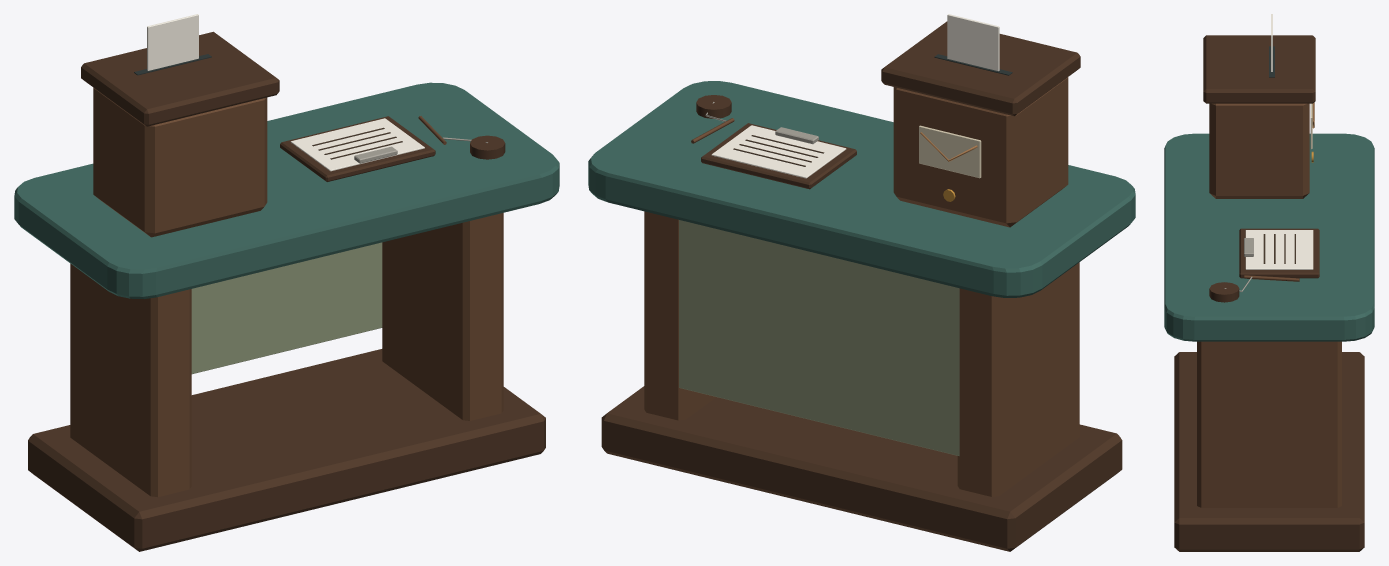
The model's file is SU_08_Suggestion_Reception.fbx.
The picture shows the model from 3 angles, left to right: view 1: azimuth 30°, elevation 25°; view 2: azimuth 150°, elevation 25°; view 3: azimuth 270°, elevation 25°; orthographic projection. The views are drawn at different scales.
Visible parts, largest first — view 1: SU_08_Suggestion_Reception; view 2: SU_08_Suggestion_Reception; view 3: SU_08_Suggestion_Reception.
Part boxes in pixels (box(x1,y1,x2,y2)): SU_08_Suggestion_Reception: box(14, 14, 559, 551); SU_08_Suggestion_Reception: box(588, 14, 1135, 551); SU_08_Suggestion_Reception: box(1164, 14, 1374, 551).
Bounding box in the file's own units: 1.75 × 0.84 × 1.75.
